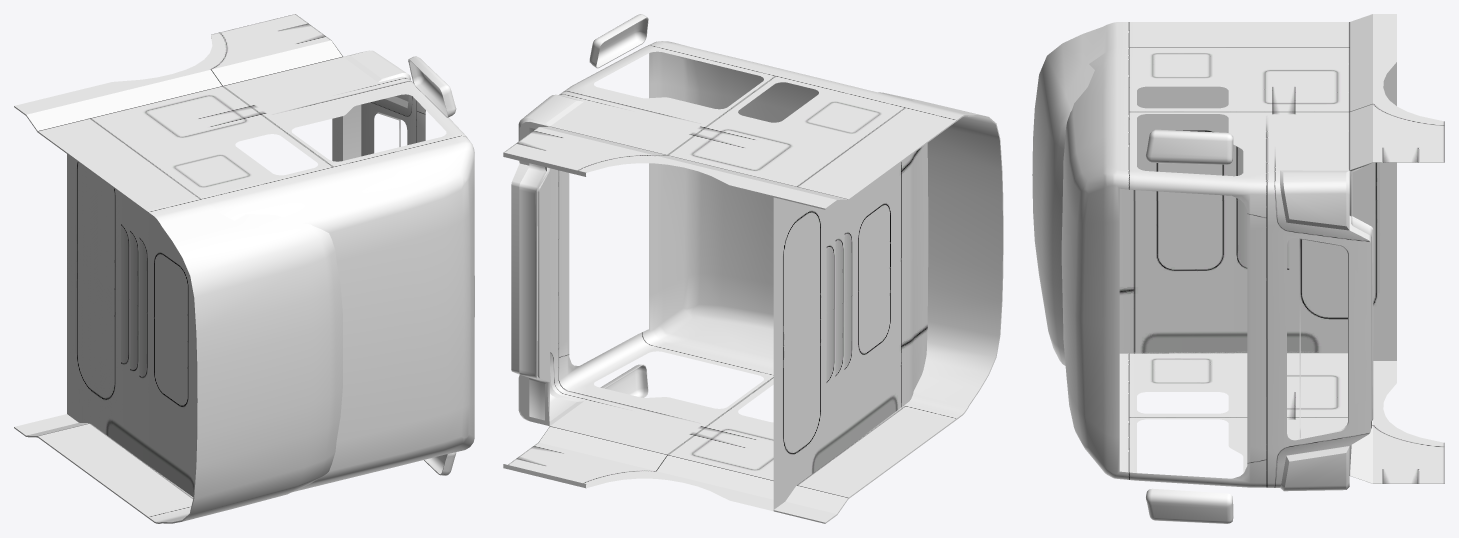
File: cab.obj
3 renders of one model, left to right at view 1: azimuth 30°, elevation 25°; view 2: azimuth 150°, elevation 25°; view 3: azimuth 270°, elevation 25°, orthographic. The views are drawn at different scales.
Visible parts, largest first — view 1: Cab; view 2: Cab; view 3: Cab.
Boxes of the visible parts, x1,y1,x2,y2 form: Cab: [14, 14, 474, 523]; Cab: [503, 14, 1003, 523]; Cab: [1032, 14, 1444, 523].
Size of the model in its own units: 2.7 by 2.95 by 2.83.
Materials: 1 (1 with a texture image).
